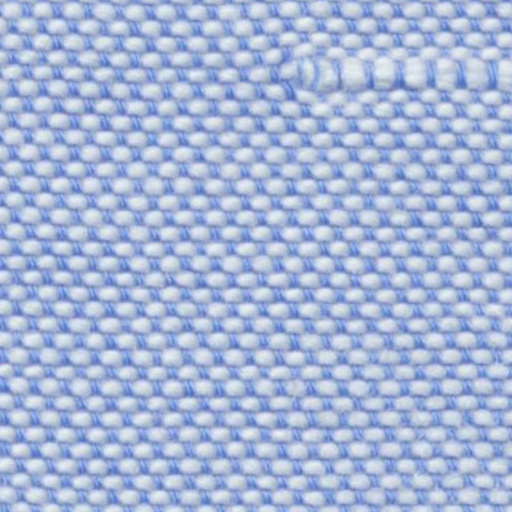DaiSha: (288, 35, 500, 118)
